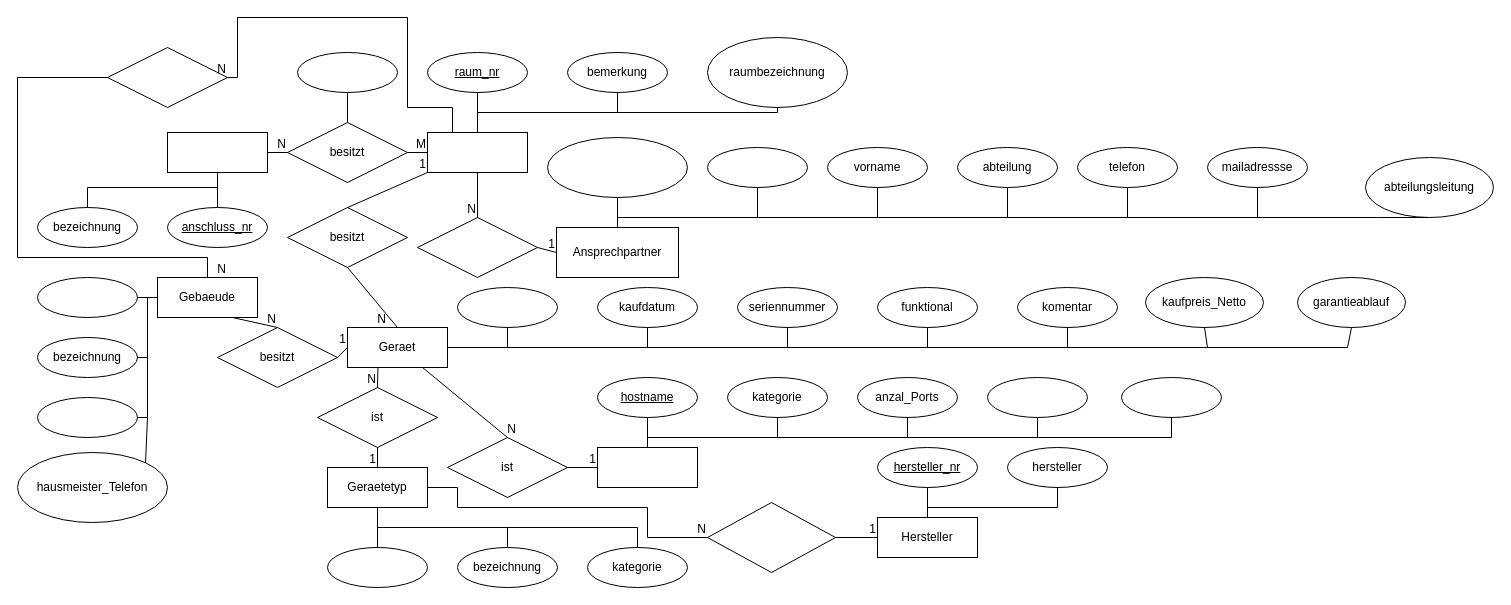
Image size: 1511x605. Some labels were removed from this diagram. Here are the shapes that lost their labels. From the top down, the centre of each, then its label:
At point (167, 77): "liegt_im".
At point (347, 72): "Anzahl".
At point (217, 152): "Anschluss".
At point (477, 152): "Raum".
At point (617, 167): "ansprechpartner_nr".
At point (757, 167): "nachname".
At point (477, 247): "hat".
At point (87, 297): "gebaeude_nr".
At point (507, 307): "inventar_nr".
At point (87, 417): "hausmeister".
At point (1037, 397): "poE_Faehig".
At point (1171, 397): "management_IP".
At point (647, 467): "Switch".
At point (771, 537): "hergestellt_von".
At point (377, 567): "geraetetyp_nr".
